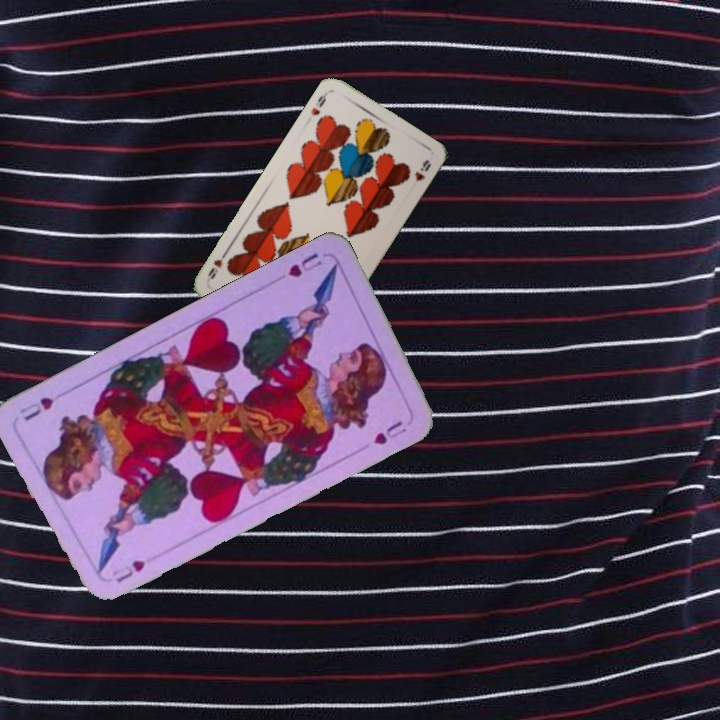H9: (307, 88, 330, 118)
HU: (284, 248, 325, 280), (107, 556, 148, 586)
